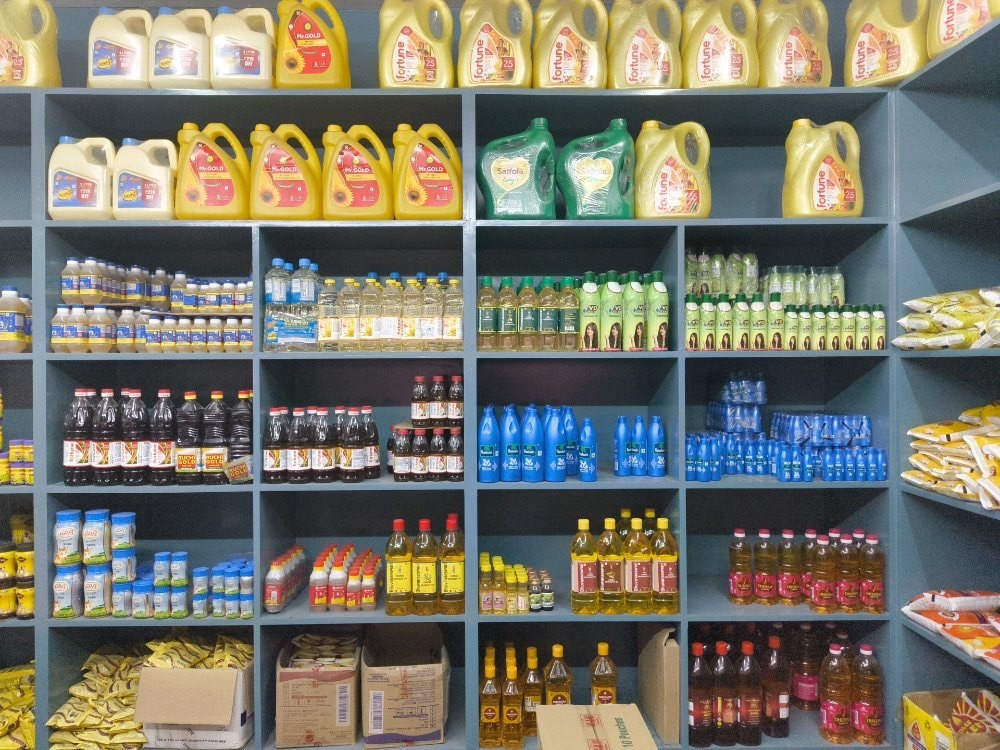other: (60, 374, 467, 495), (52, 510, 465, 621), (49, 123, 462, 219), (49, 256, 258, 360), (262, 257, 464, 353), (474, 272, 668, 351), (49, 687, 250, 747), (87, 8, 211, 86), (277, 634, 359, 748), (484, 117, 555, 218), (564, 120, 633, 217), (530, 17, 608, 101), (380, 0, 451, 88), (643, 123, 708, 218), (277, 0, 347, 85), (468, 0, 529, 85), (143, 632, 255, 673), (718, 47, 829, 87), (705, 294, 780, 349), (212, 7, 274, 73)
parachute: (684, 400, 886, 479), (480, 402, 605, 486), (609, 414, 667, 477)
